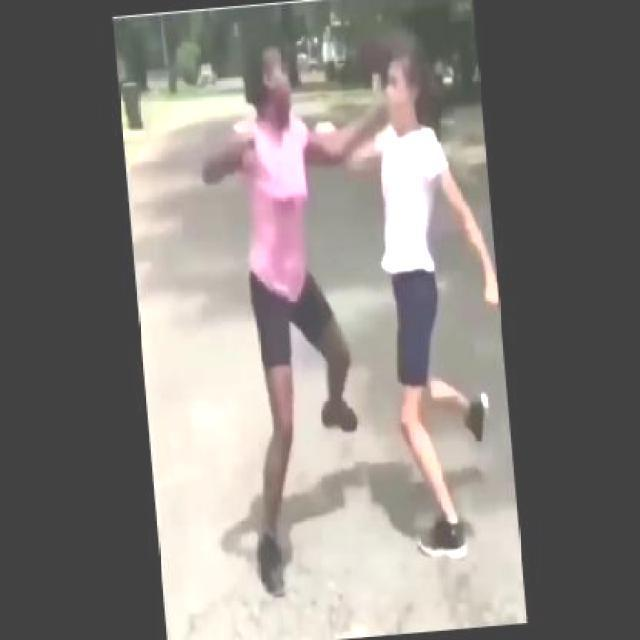fight: (190, 24, 522, 598)
